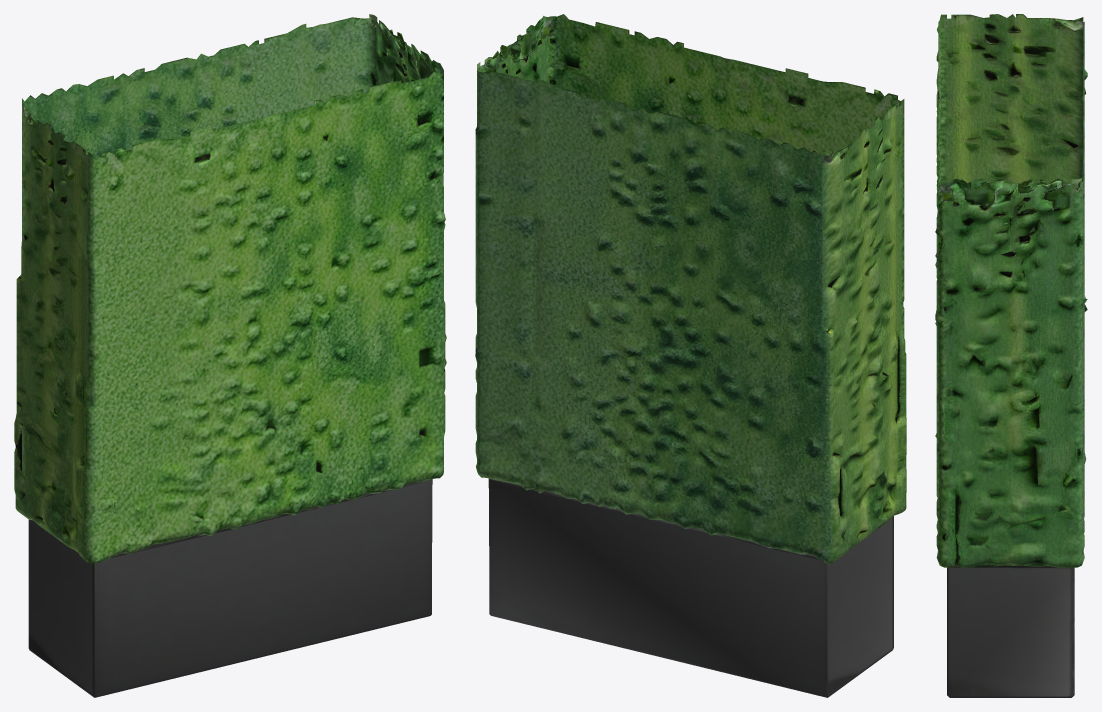
File: boxwood_hedge_wall_0125185133_texture.glb
3 renders of one model, left to right at view 1: azimuth 30°, elevation 25°; view 2: azimuth 150°, elevation 25°; view 3: azimuth 270°, elevation 25°, orthographic. The views are drawn at different scales.
Visible parts, largest first — view 1: Mesh_0; view 2: Mesh_0; view 3: Mesh_0.
Boxes of the visible parts, x1,y1,x2,y2 form: Mesh_0: (14, 14, 446, 697); Mesh_0: (475, 14, 906, 697); Mesh_0: (935, 14, 1087, 697).
Size of the model in its own units: 1.67 by 2.44 by 0.6388.
1 material, 1 textured.
